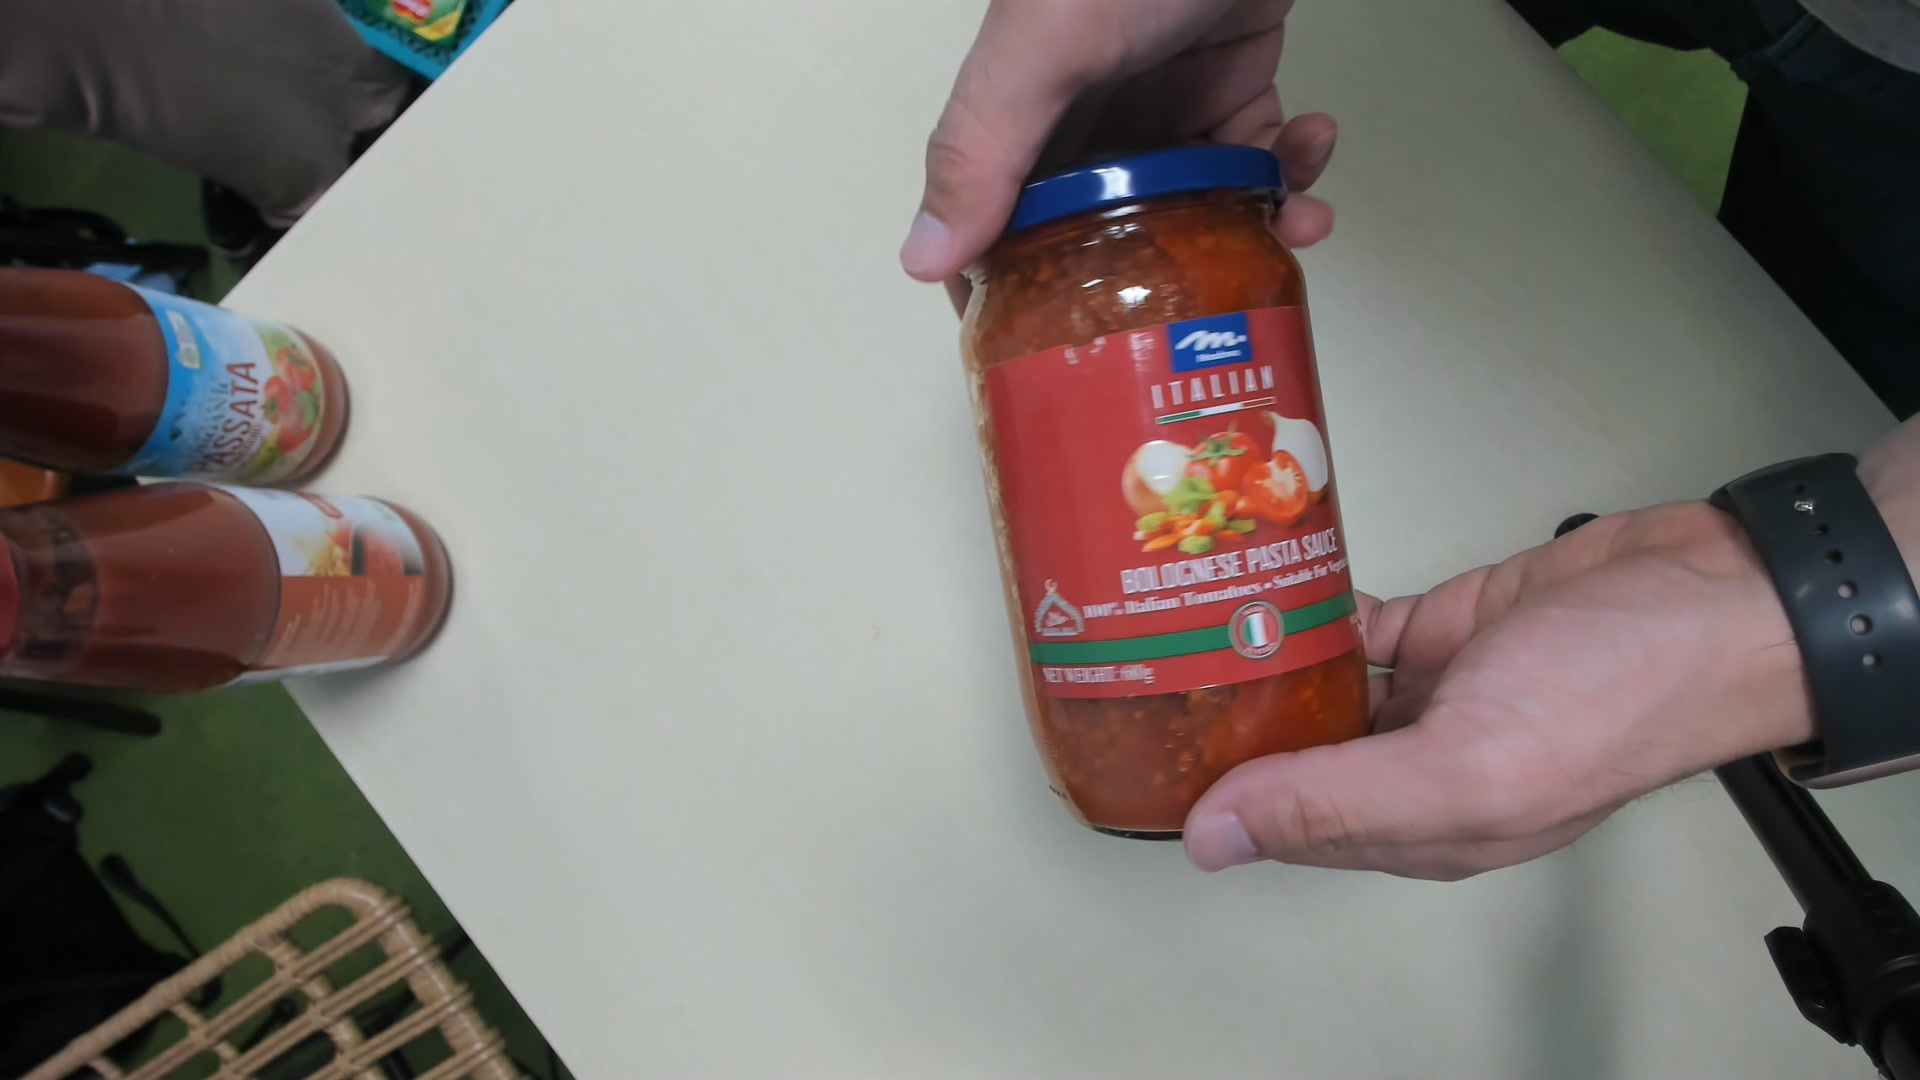PastaSauce_600-699g_Halal_NonHealthy: (967, 150, 1379, 851)
